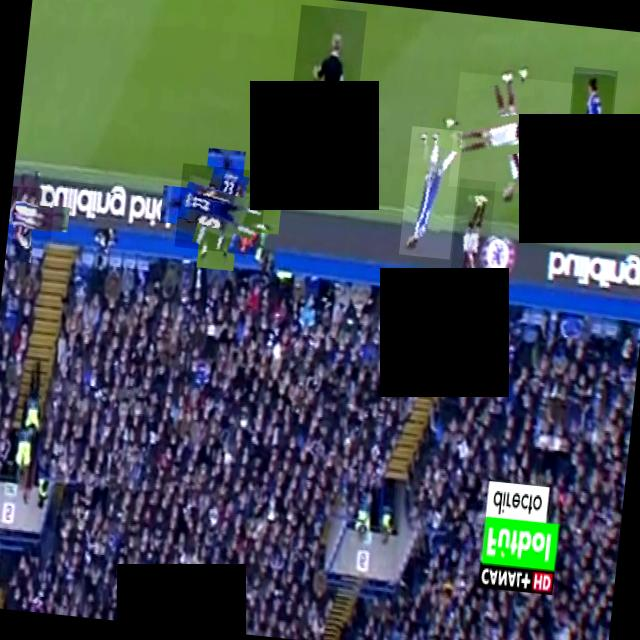ball: (8, 187, 18, 224)
goalkeeper: (283, 4, 367, 184)
soccer-player: (448, 72, 574, 198), (556, 66, 618, 241), (398, 126, 462, 260), (174, 163, 267, 255), (445, 178, 495, 321), (6, 185, 55, 249)
